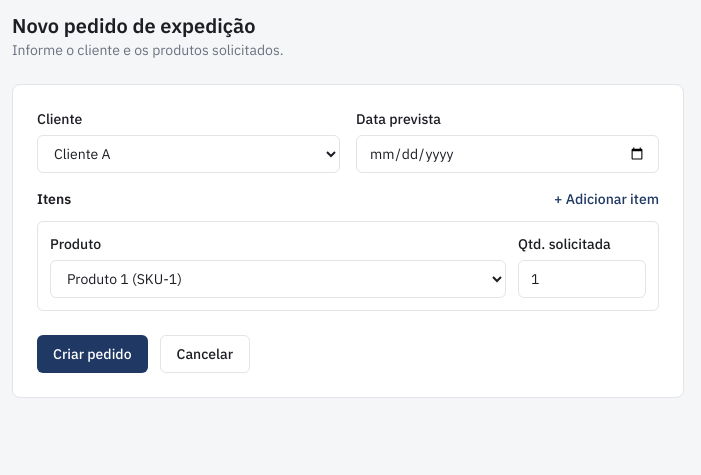
Test: PedidoExpedicaoFormPage › mostra o erro da API e não navega quando falha ao criar o pedido
The image size is (701, 475).
expect the number of dropdowns labelled "Produto" is 1: met, box [50,260,506,298]
Type "2026-06-10" into the date field labelled "Data prevista" at (508, 154), box [356,135,659,173]
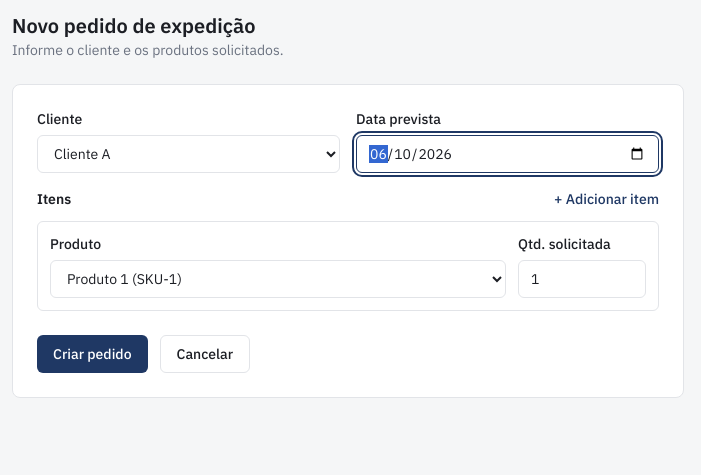
Click the button "Criar pedido" at (92, 354), box [37,335,148,373]
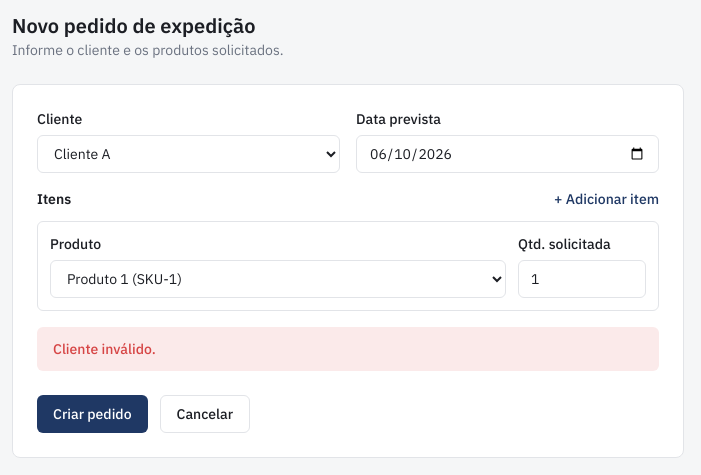
expect the message reads "Cliente inválido.": met, box [53,340,156,358]
